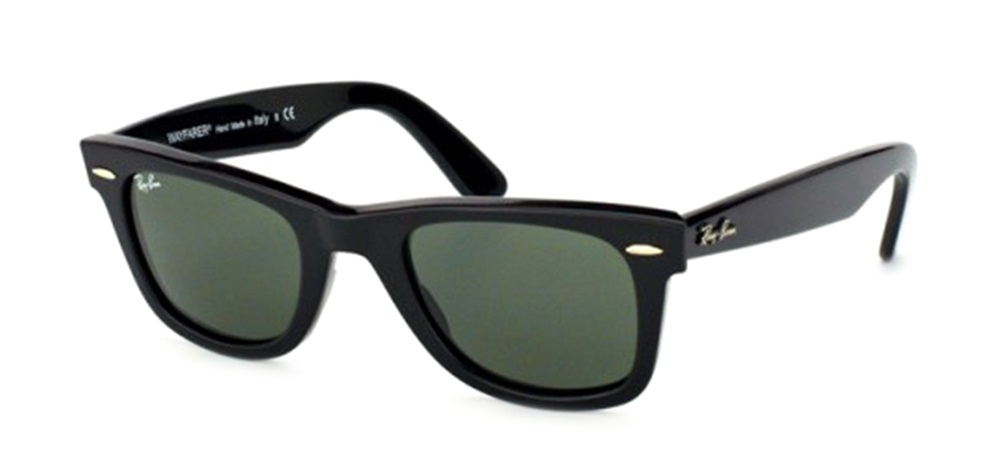Rayban: (694, 213, 741, 254), (125, 165, 168, 197)
